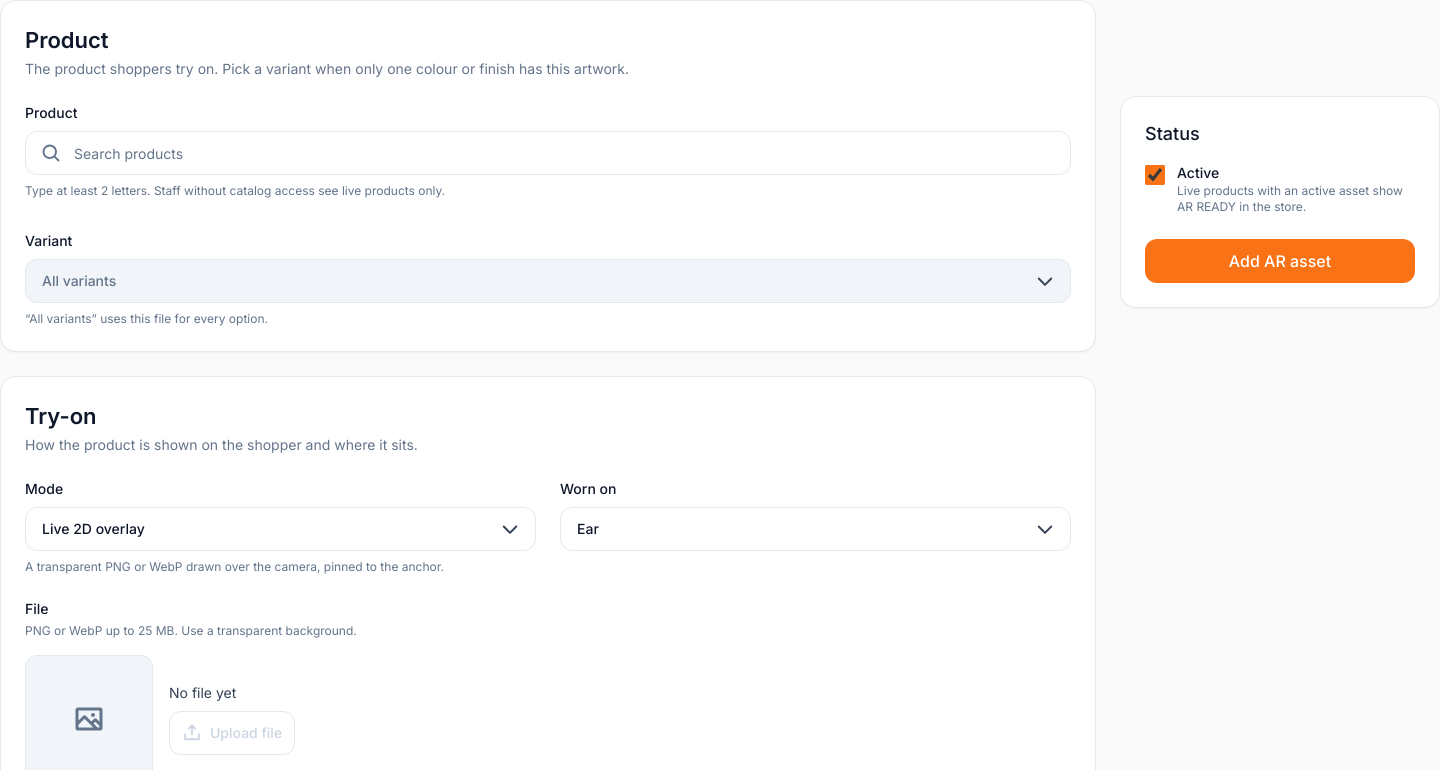
ArAssetForm › needs a product before a file can be uploaded, then loads its variants
Expected: the button "Upload file" is disabled, [169, 711, 295, 755]
Type "pearl" into the search field with placeholder "Search products".
click(548, 153); type("pearl")  # box [25, 131, 1071, 175]
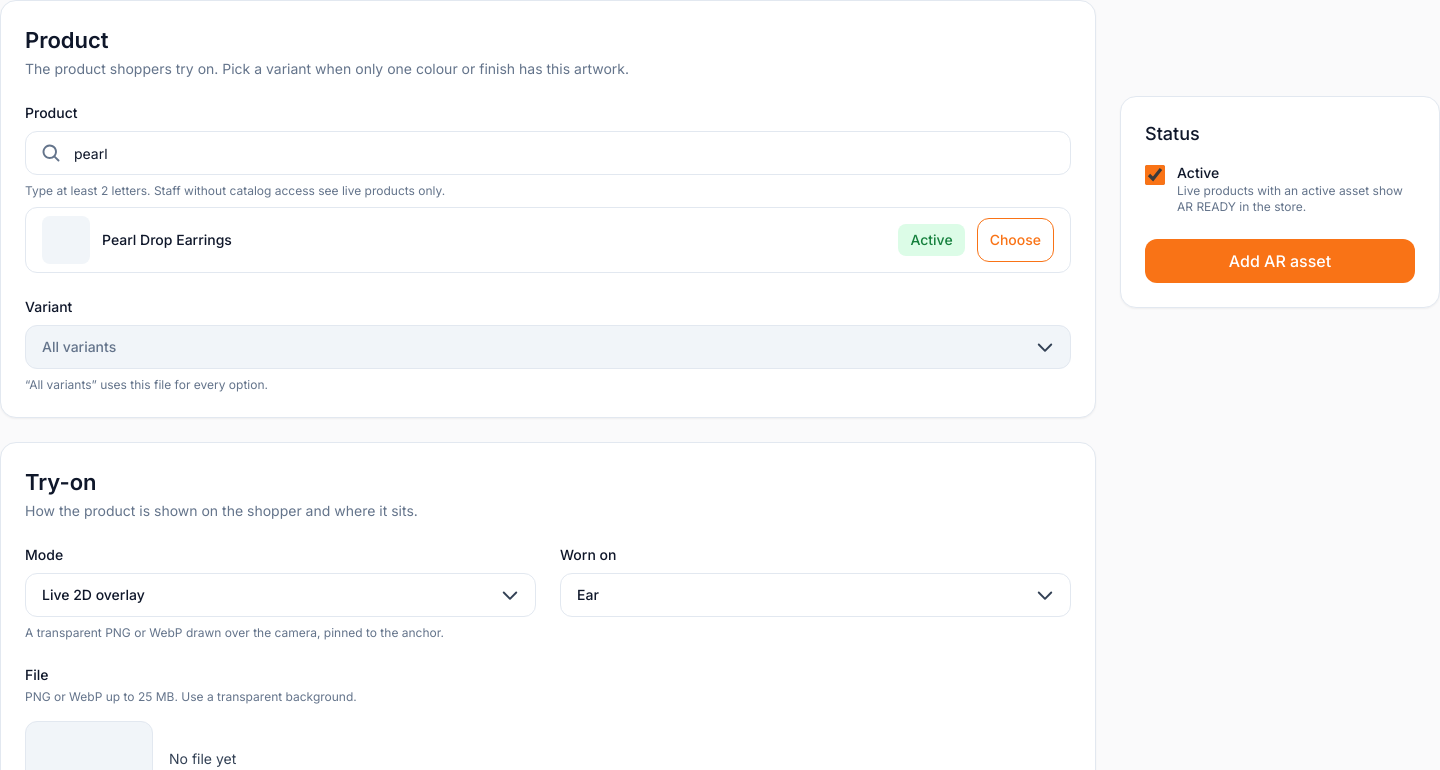
Click the button named "Choose Pearl Drop Earrings".
click(1015, 240)  # box [977, 218, 1054, 262]
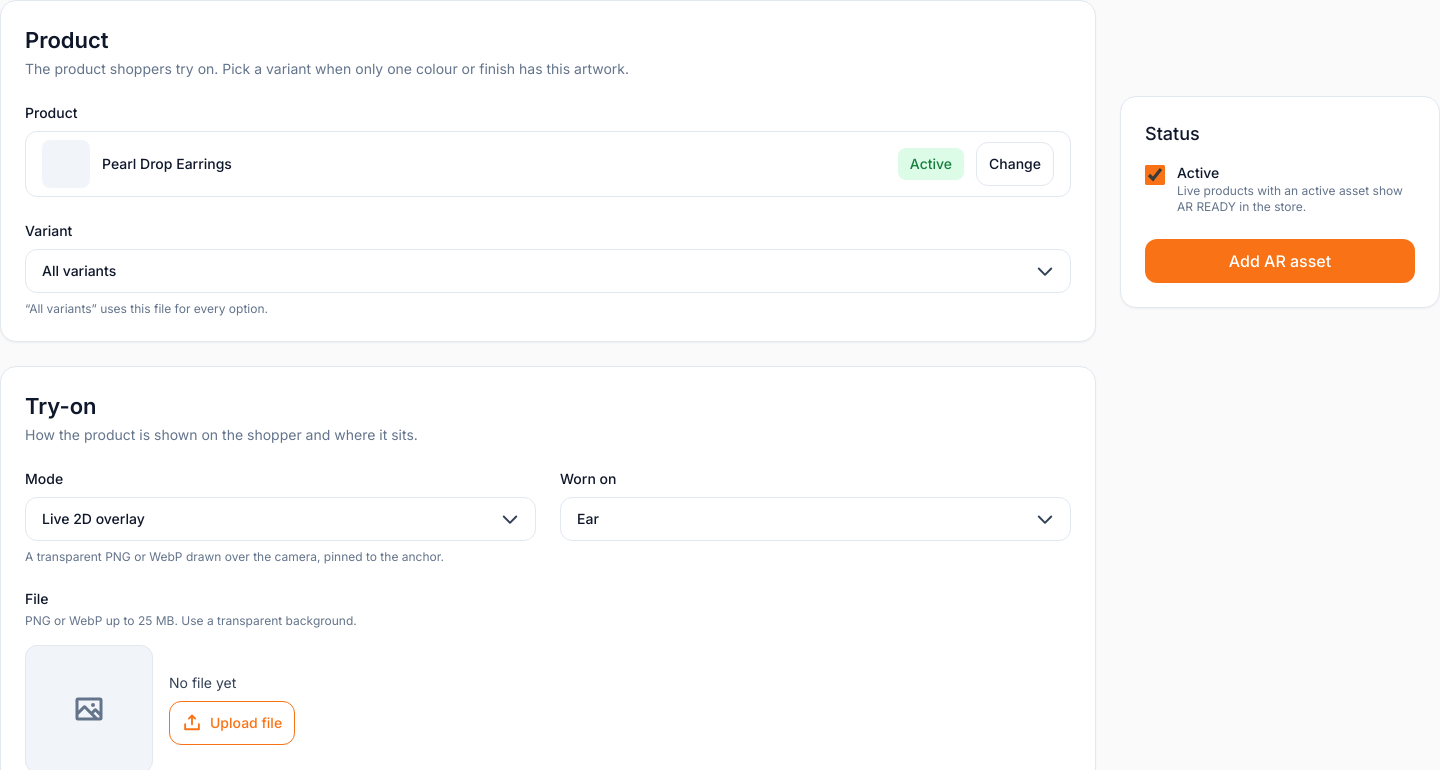
Expected: the text "Pearl Drop Earrings" is shown, [102, 155, 232, 172]
Expected: the button "Upload file" is enabled, [169, 701, 295, 745]
